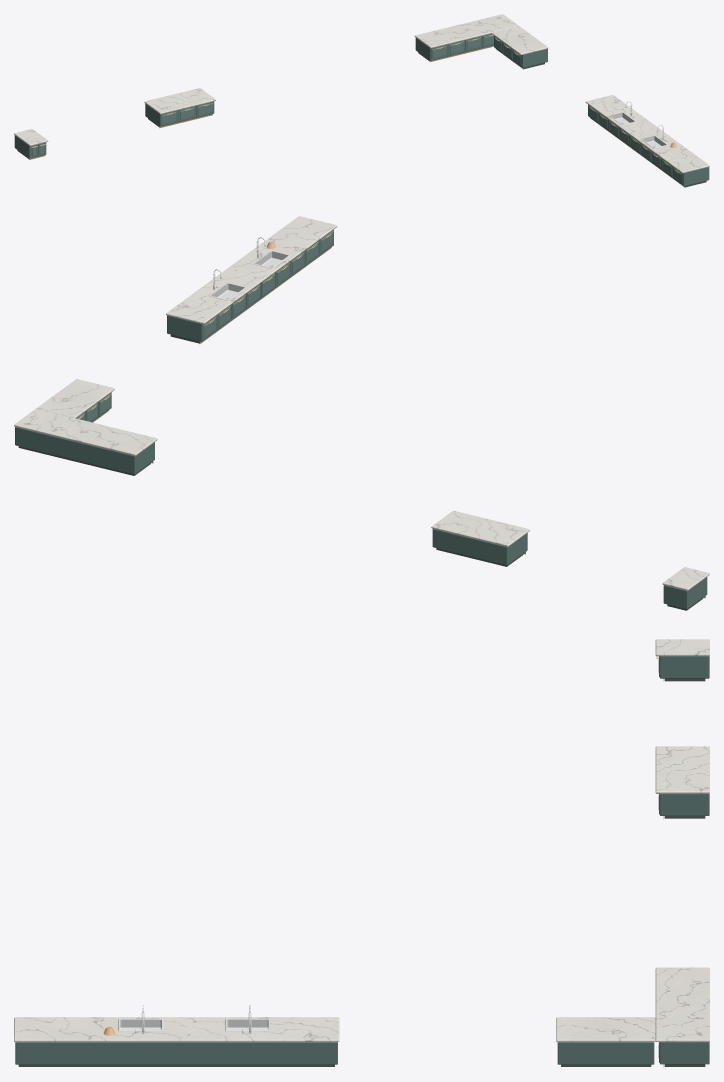
The model's file is connectors.glb.
The picture shows the model from 3 angles, top to bottom: view 1: azimuth 30°, elevation 25°; view 2: azimuth 150°, elevation 25°; view 3: azimuth 270°, elevation 25°; orthographic projection. The views are drawn at different scales.
Parts seen in each view (by area): view 1: connectors, connectors_green_lacquer, connectors_green_lacquer_panel, connectors_stainless, connectors_bronze; view 2: connectors, connectors_green_lacquer, connectors_green_lacquer_panel, connectors_stainless, connectors_plinth; view 3: connectors, connectors_green_lacquer, connectors_plinth, connectors_stainless.
Boxes of the visible parts, x1,y1,x2,y2 form: connectors: [14, 14, 709, 173]; connectors_green_lacquer: [14, 33, 709, 186]; connectors_green_lacquer_panel: [32, 35, 682, 182]; connectors_stainless: [609, 101, 667, 148]; connectors_bronze: [29, 45, 685, 187]; connectors: [14, 216, 709, 590]; connectors_green_lacquer: [15, 229, 707, 608]; connectors_green_lacquer_panel: [79, 232, 332, 421]; connectors_stainless: [209, 237, 290, 300]; connectors_plinth: [18, 334, 703, 610]; connectors: [14, 639, 709, 1041]; connectors_green_lacquer: [15, 656, 709, 1064]; connectors_plinth: [18, 678, 705, 1066]; connectors_stainless: [118, 1005, 270, 1033].
Size of the model in its own units: 21 by 1.33 by 15.4.
14 materials, 5 textured.
